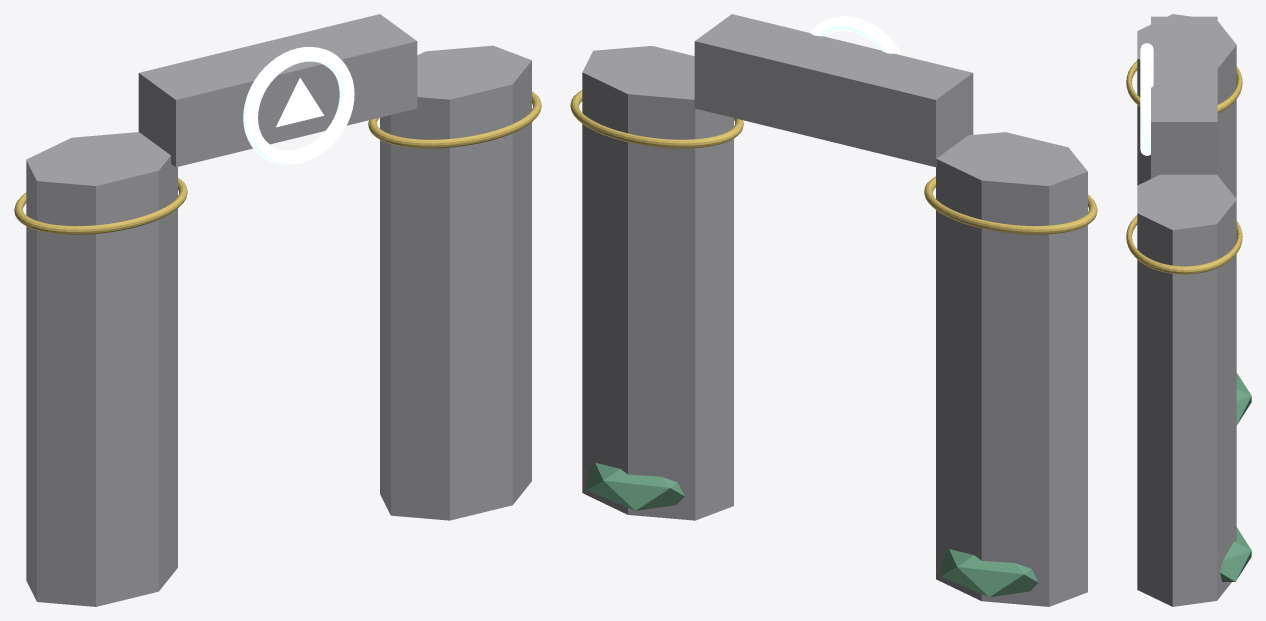
The model's file is Prop_CaveFormation.fbx.
The picture shows the model from 3 angles, left to right: view 1: azimuth 30°, elevation 25°; view 2: azimuth 150°, elevation 25°; view 3: azimuth 270°, elevation 25°; orthographic projection. The views are drawn at different scales.
Parts seen in each view (by area): view 1: CaveFormation; view 2: CaveFormation; view 3: CaveFormation.
Boxes of the visible parts, <box> form: CaveFormation: <box>14,14,541,606</box>; CaveFormation: <box>570,14,1097,606</box>; CaveFormation: <box>1126,14,1251,606</box>.
Bounding box in the file's own units: 640 × 598 × 151.
